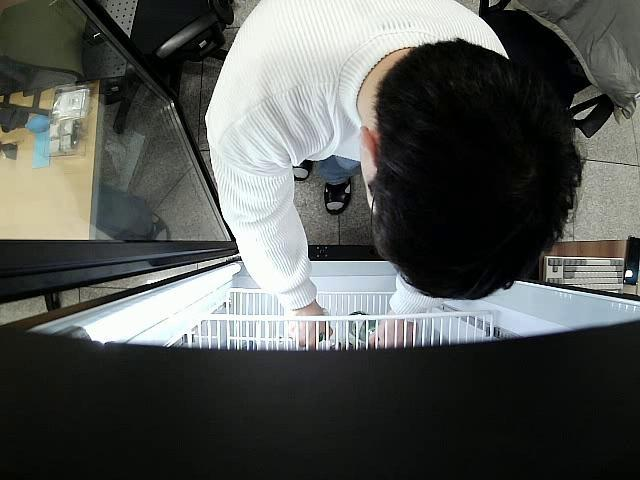18_trevi: (349, 311, 378, 344)
